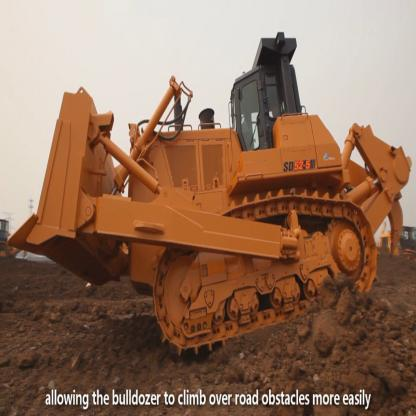bull_dozer/loader/grader: (23, 19, 413, 356)
